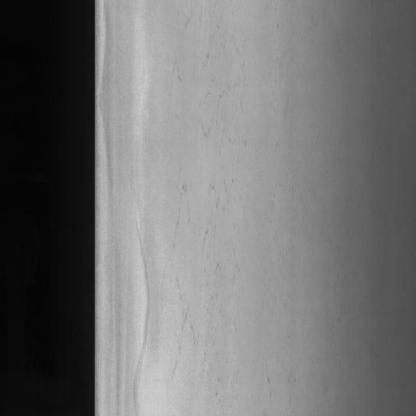silk_spot: (166, 10, 245, 386)
